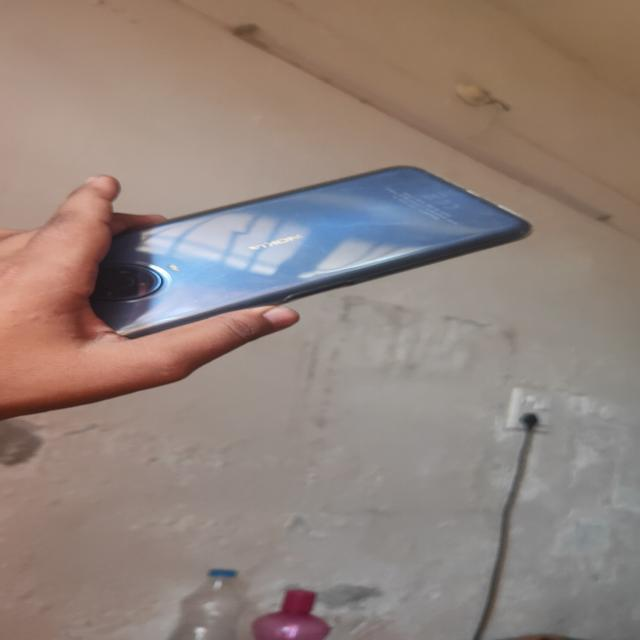Phone: (95, 159, 531, 345)
